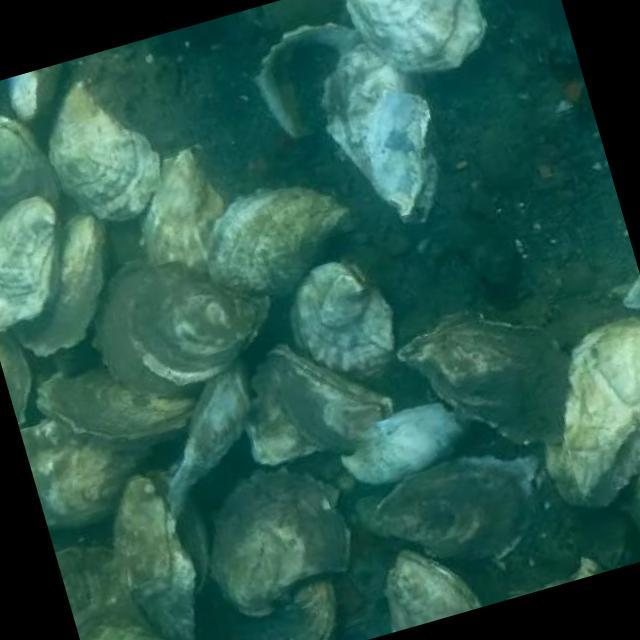Oyster- Indeterminate: (92, 260, 268, 399), (398, 315, 569, 443), (323, 42, 437, 222), (212, 467, 348, 615), (544, 315, 640, 504), (246, 344, 391, 465), (375, 455, 536, 557), (46, 77, 160, 220), (206, 187, 354, 297), (18, 420, 151, 531), (167, 349, 250, 517), (114, 474, 197, 640), (10, 206, 105, 351), (291, 261, 393, 379), (38, 369, 196, 442), (139, 148, 222, 274), (54, 545, 162, 640), (342, 403, 471, 482), (346, 0, 486, 72), (384, 549, 480, 632), (0, 193, 58, 330), (241, 575, 337, 640), (0, 115, 60, 216), (0, 329, 31, 425)
